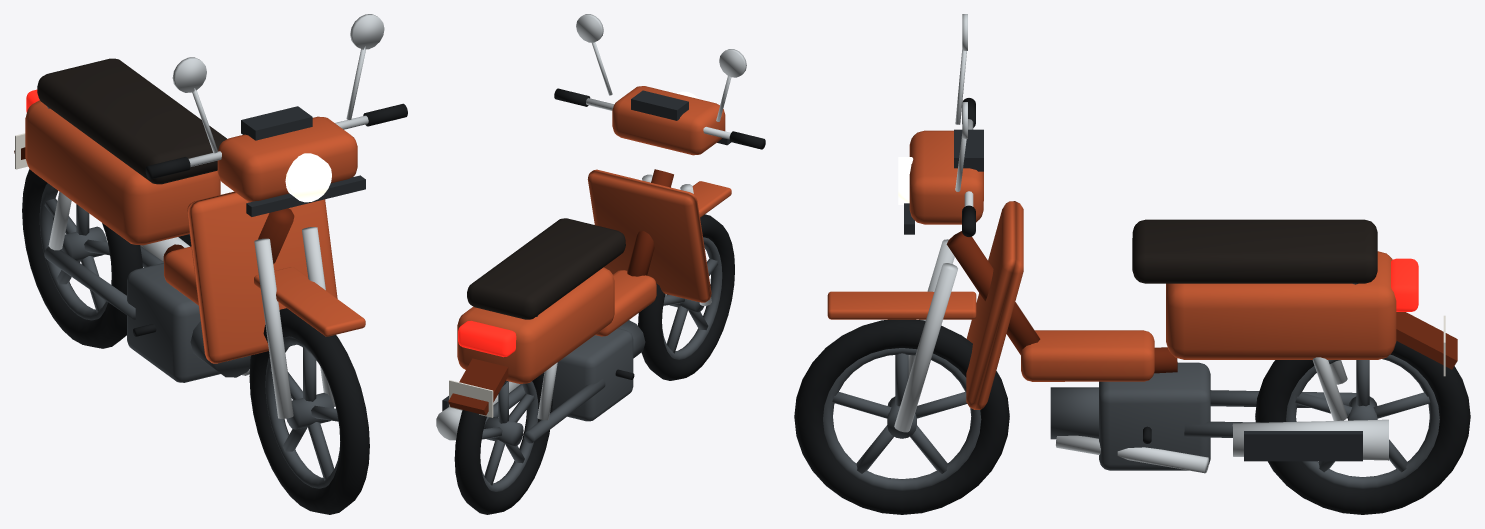
Rendered from motorbike.glb.
3 views of the same model, side by side, from view 1: azimuth 30°, elevation 25°; view 2: azimuth 150°, elevation 25°; view 3: azimuth 270°, elevation 25° (orthographic). The views are drawn at different scales.
Visible parts, largest first — view 1: Body, SteerParts, WheelFront, WheelRear; view 2: Body, SteerParts, WheelRear, WheelFront; view 3: Body, WheelFront, WheelRear, SteerParts.
Boxes of the visible parts, bbox=[...] form: Body: bbox=[14, 58, 337, 382]; SteerParts: bbox=[145, 14, 407, 418]; WheelFront: bbox=[249, 308, 369, 514]; WheelRear: bbox=[22, 169, 142, 348]; Body: bbox=[436, 169, 711, 443]; SteerParts: bbox=[554, 14, 765, 305]; WheelRear: bbox=[454, 372, 552, 514]; WheelFront: bbox=[638, 214, 734, 380]; Body: bbox=[946, 201, 1457, 473]; WheelFront: bbox=[794, 319, 1009, 514]; WheelRear: bbox=[1255, 341, 1470, 514]; SteerParts: bbox=[827, 14, 983, 432].
Bounding box in the file's own units: 0.8061 × 1.35 × 1.82.
